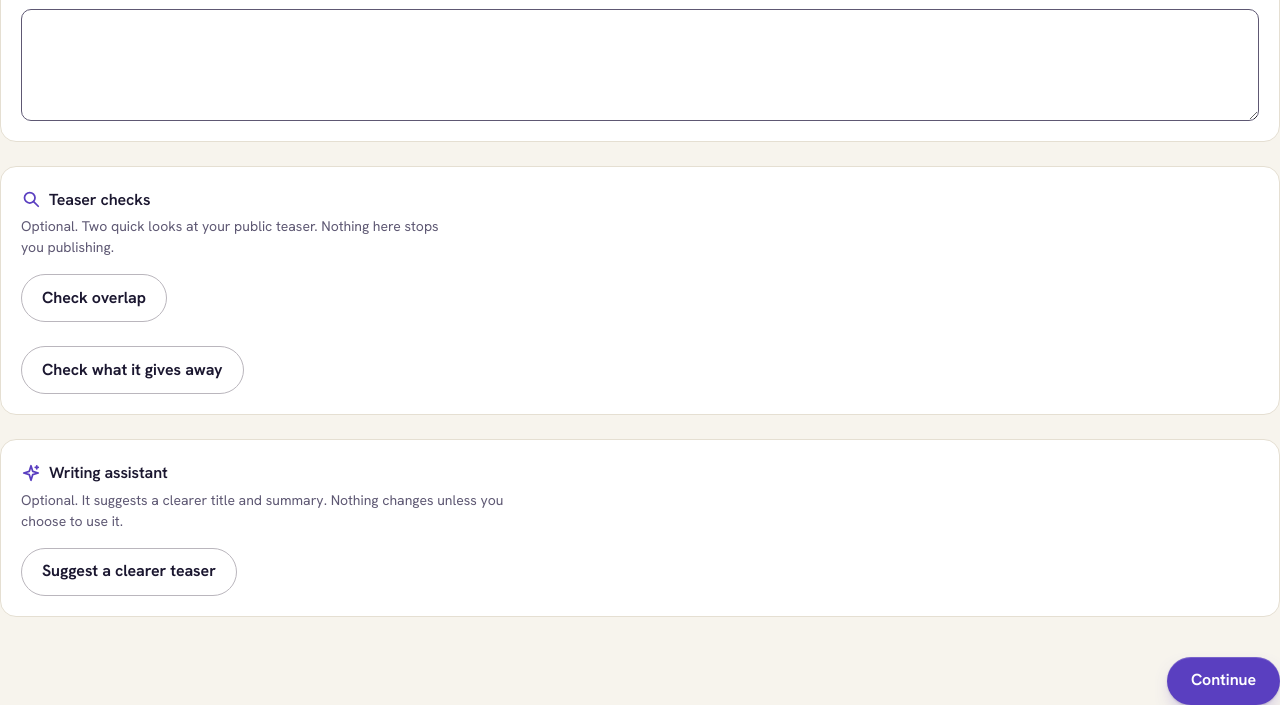
it: the consent dialog › shows the API's wording as it is, focuses 'Not now', and sends nothing before the owner turns it on
This screenshot has width=1280, height=705.
(page scrolled)
Click the button "Suggest a clearer teaser". click: click(129, 572)
box: left=21, top=548, right=237, bottom=596
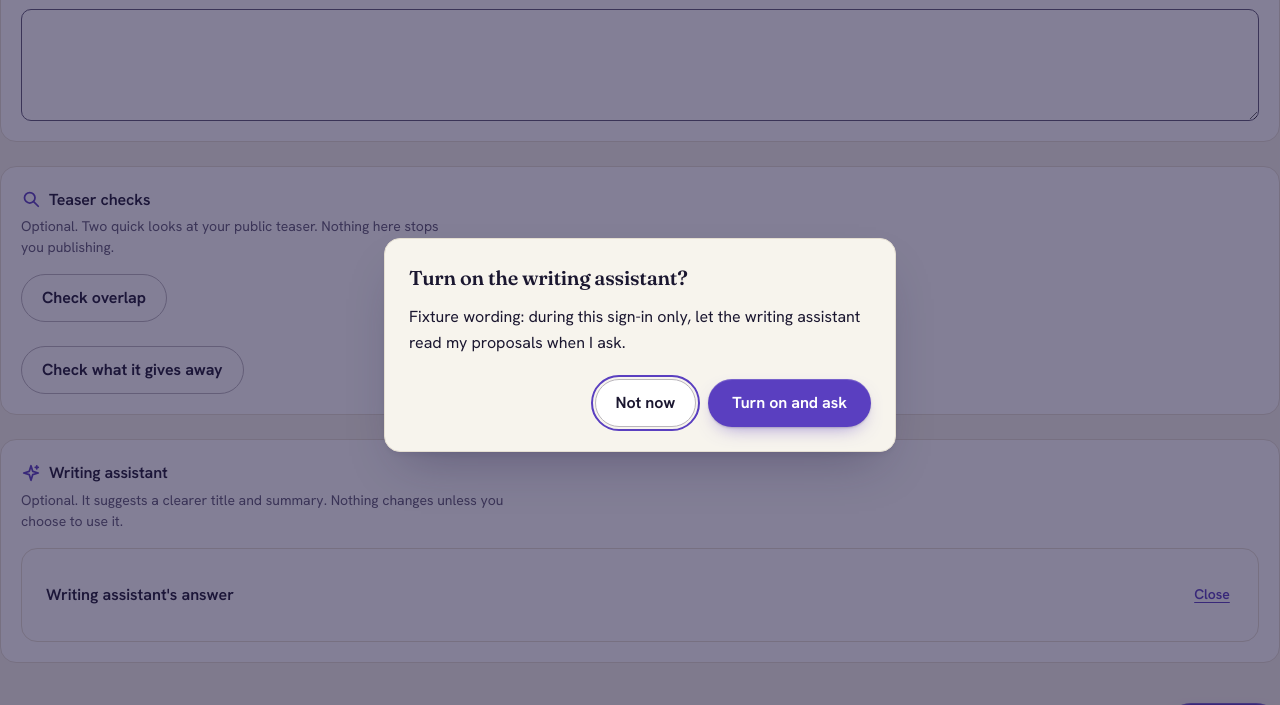
Expected: the heading "Turn on the writing assistant?" is shown, left=409, top=265, right=688, bottom=290
Expected: the text "Fixture wording: during this sign-in only, let the writing assistant read my proposals when I ask." is shown, left=409, top=306, right=860, bottom=352
Expected: the button "Not now" is shown, left=595, top=379, right=696, bottom=427
